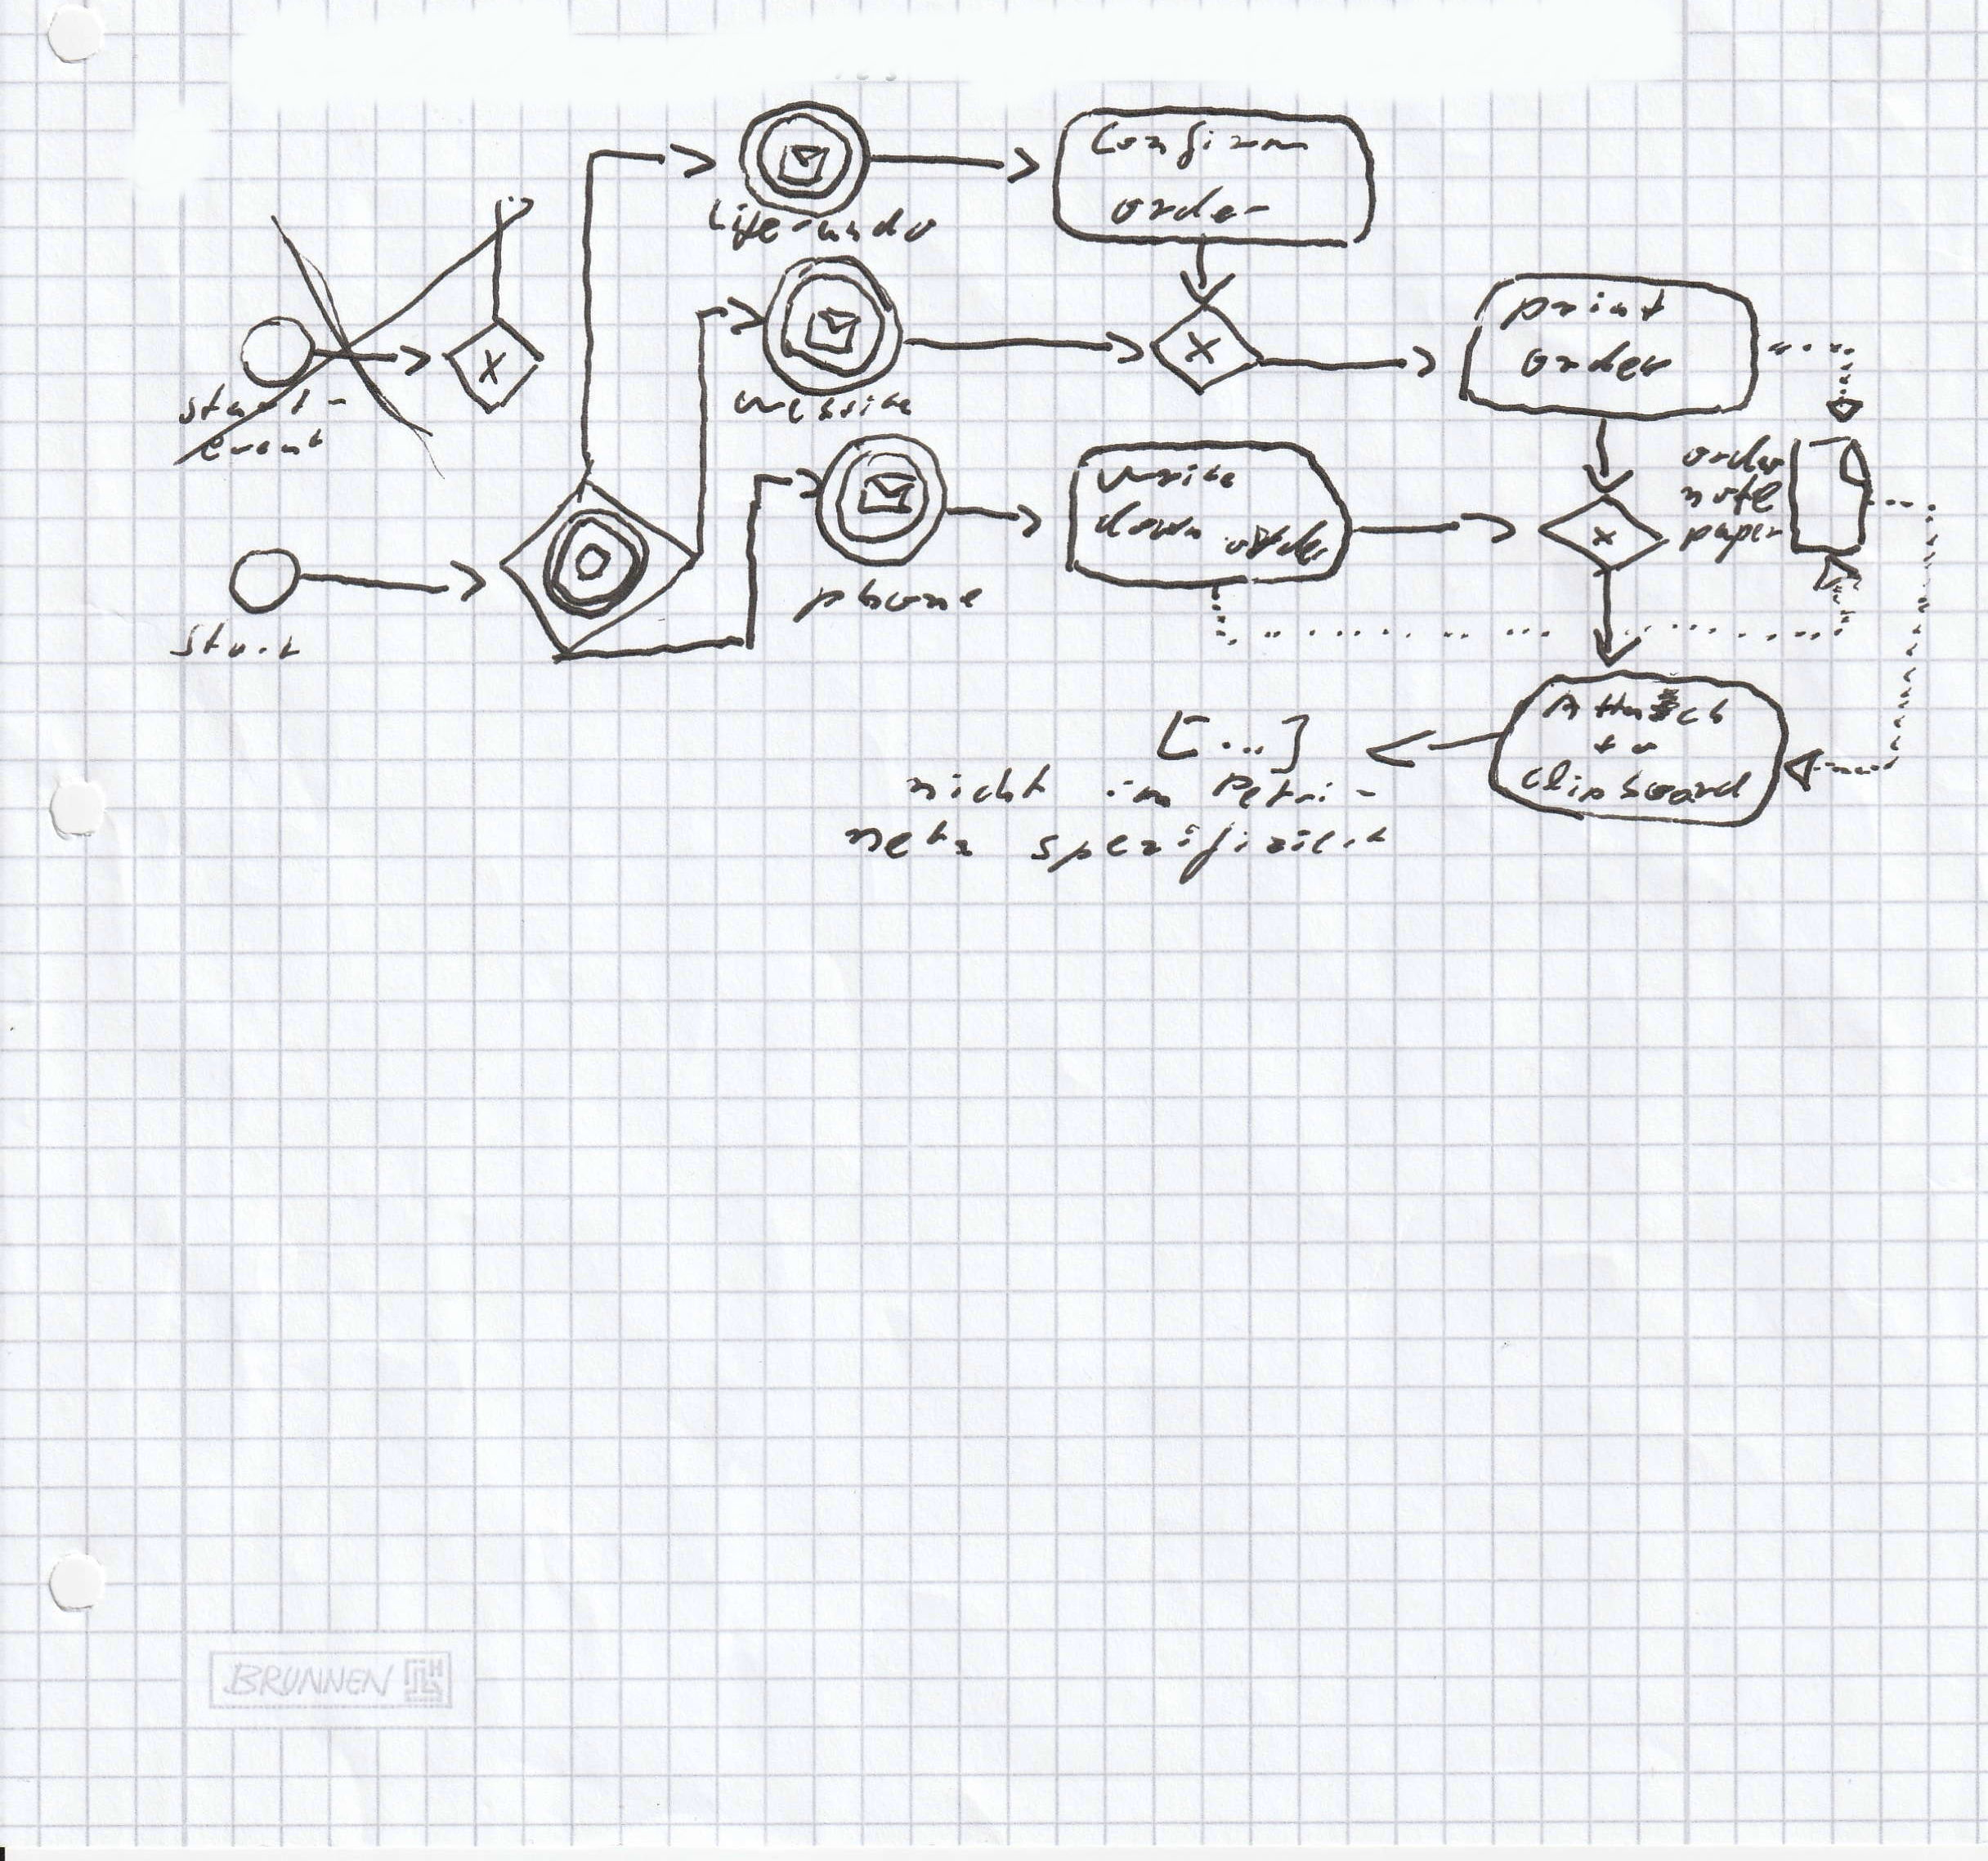Attach: (1542, 684, 1729, 735)
Liferando: (717, 198, 938, 248)
Petri-: (1204, 770, 1379, 817)
[...]: (1151, 701, 1312, 771)
clipboard: (1517, 754, 1753, 806)
confirm: (1076, 117, 1316, 171)
down: (1087, 502, 1214, 546)
im: (1101, 773, 1174, 817)
netz: (838, 813, 973, 866)
nicht: (905, 761, 1053, 810)
note: (1680, 469, 1790, 519)
order: (1522, 332, 1671, 394), (1106, 187, 1277, 229), (1218, 514, 1332, 570), (1678, 437, 1788, 474)
paper: (1678, 519, 1785, 567)
phone: (791, 577, 989, 626)
print: (1501, 287, 1669, 336)
spezifiziert: (1034, 820, 1393, 882)
start: (163, 621, 304, 672)
to: (1596, 721, 1666, 766)
website: (731, 387, 917, 427)
write: (1092, 455, 1249, 495)
